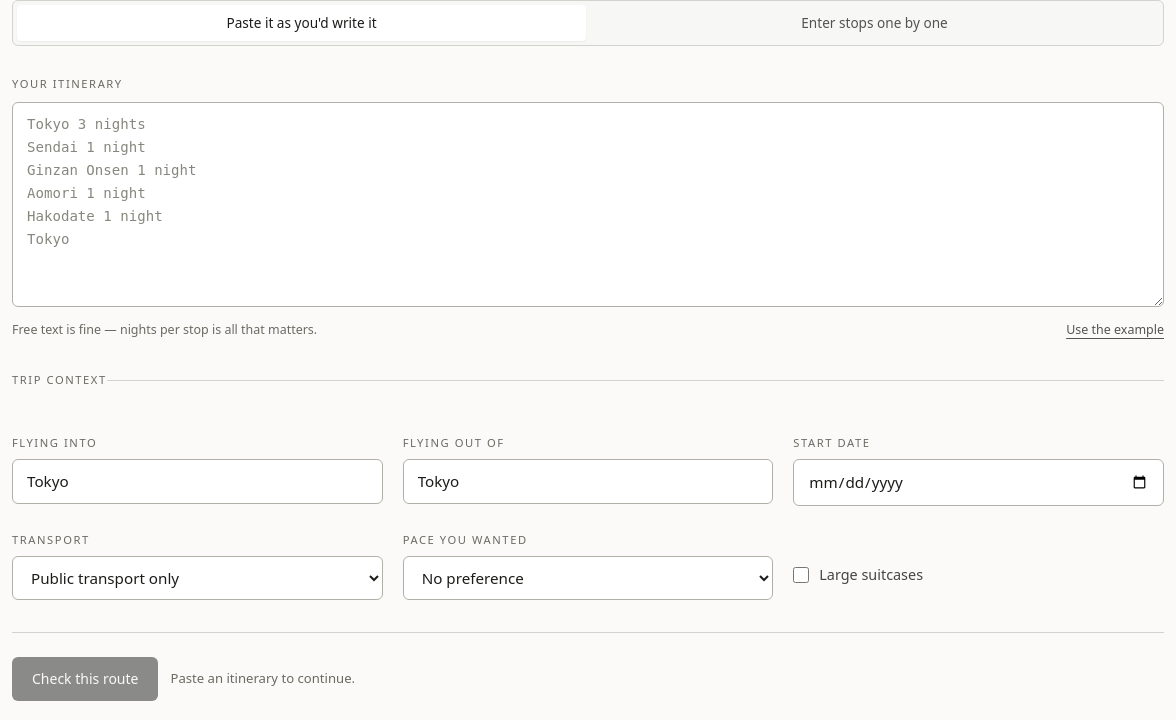
Test case: RouteCheckForm › surfaces an API failure and does not navigate
The image size is (1176, 720).
Click the button "Use the example": {"x": 1115, "y": 331} [1066,321,1164,340]
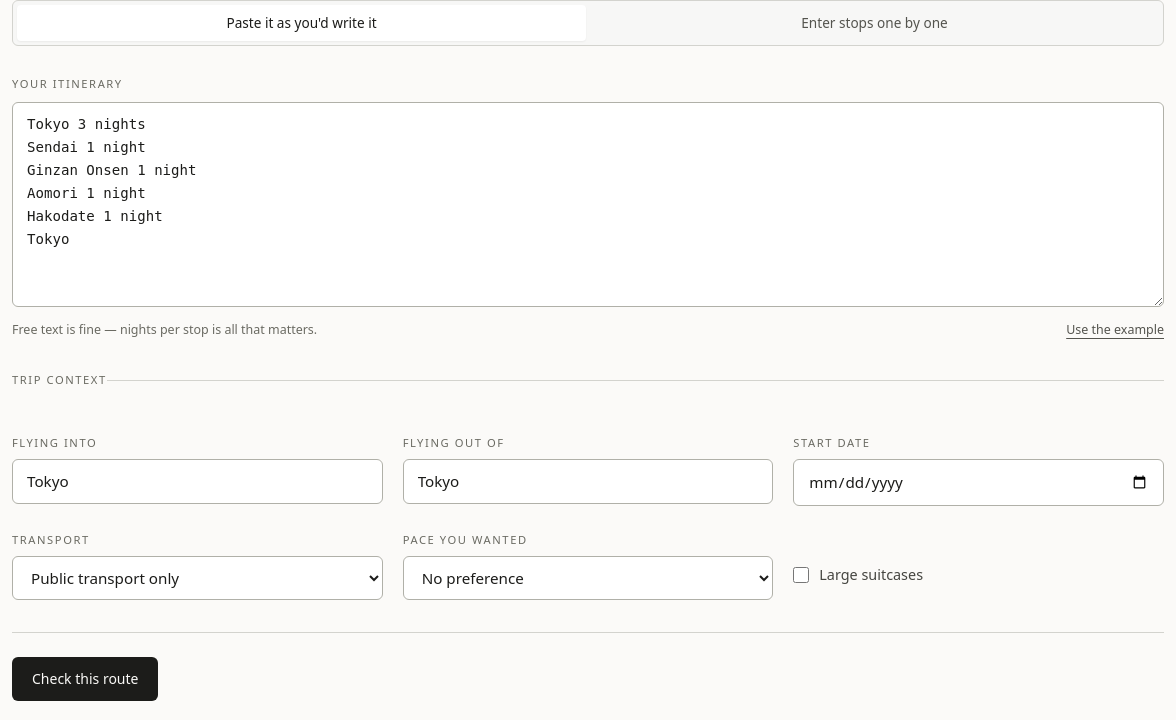
Click the button "Check this route": {"x": 85, "y": 679} [12,657,158,701]
(page scrolled)
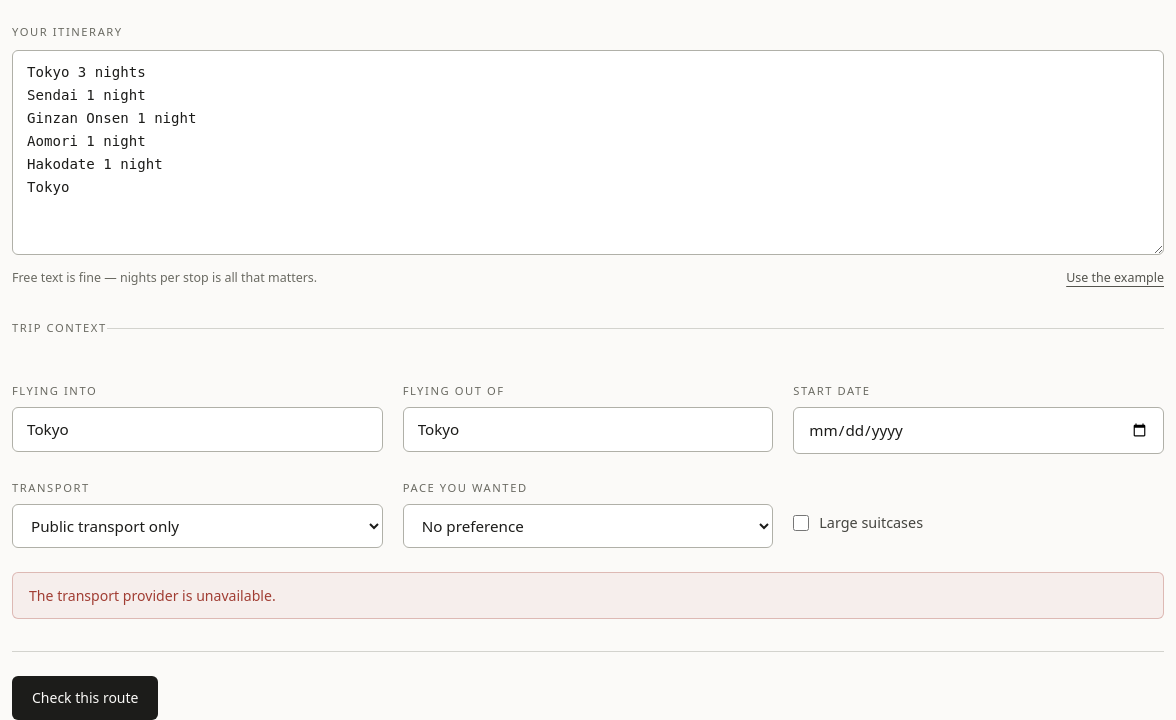
Expected: the button "Check this route" is enabled, [12,676,158,719]
Expected: the message reads "The transport provider is unavailable.", [29,586,276,605]
